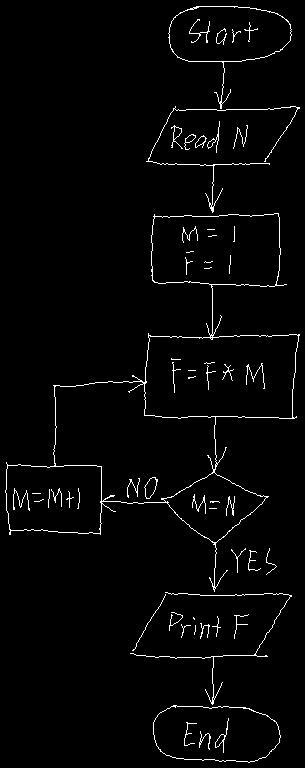arrow: (53, 375, 146, 466), (100, 495, 168, 511), (207, 416, 226, 472), (209, 542, 227, 591), (205, 656, 222, 704), (206, 285, 221, 339), (205, 165, 222, 212), (214, 61, 230, 108)
data: (130, 592, 291, 658), (146, 106, 299, 165)
decision: (161, 471, 268, 544)
process: (144, 333, 299, 418), (151, 213, 286, 286), (5, 462, 101, 534)
terminator: (153, 705, 280, 762), (168, 6, 291, 61)
text: (171, 358, 264, 392), (182, 226, 234, 274), (171, 121, 247, 152), (169, 612, 248, 638), (189, 19, 257, 44), (184, 718, 228, 752), (13, 488, 79, 510), (231, 548, 276, 574), (192, 494, 234, 515), (127, 477, 157, 498)
